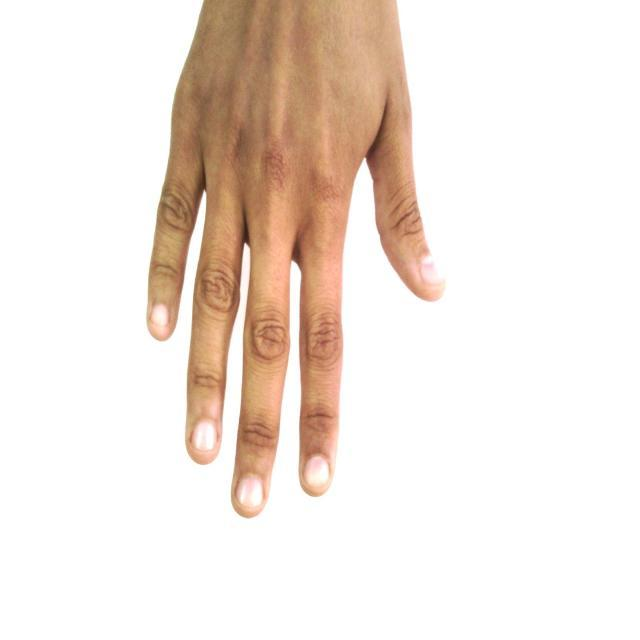Fingernail: (238, 475, 263, 508), (304, 456, 328, 489), (193, 420, 217, 451), (421, 257, 444, 286), (151, 305, 168, 328)
